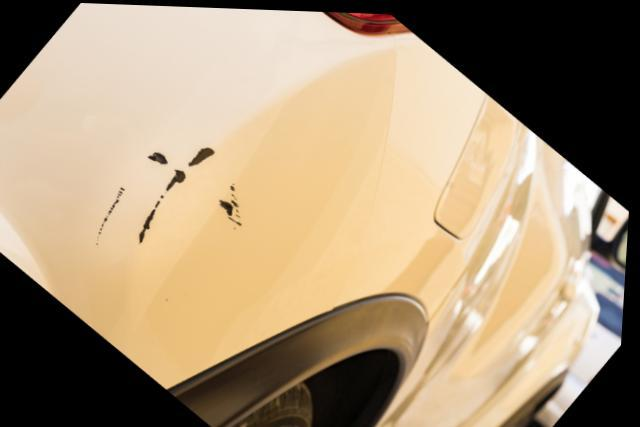scratch: (91, 140, 223, 252), (216, 177, 251, 232)
